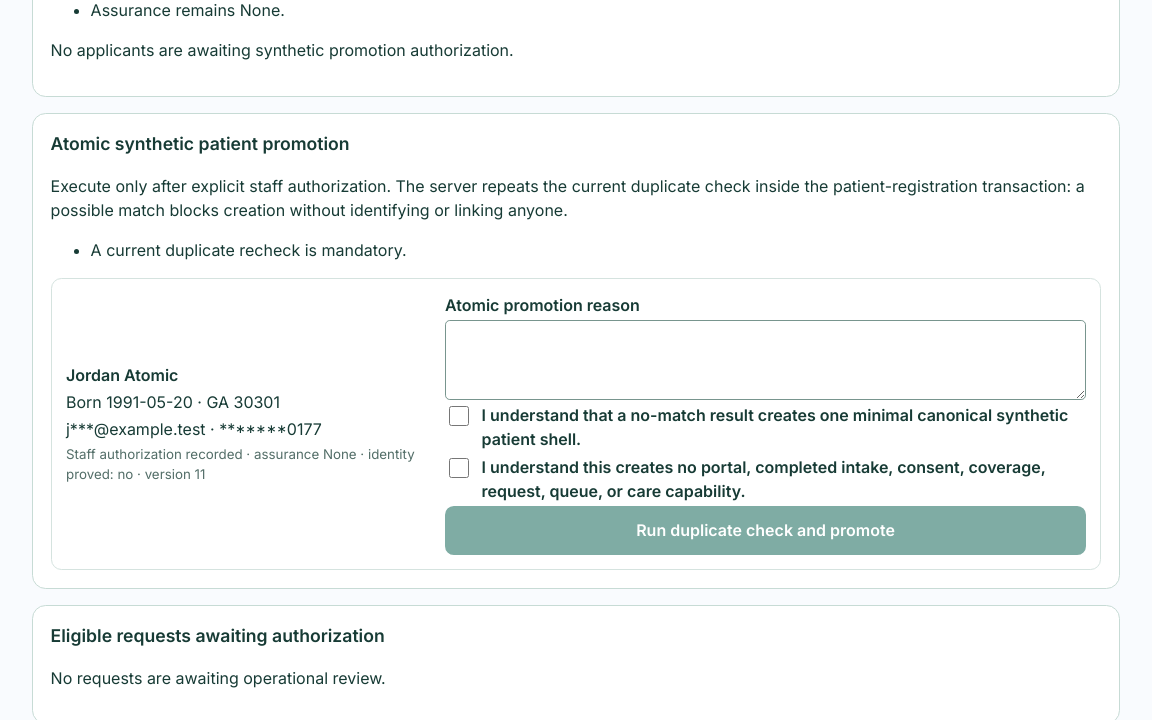
Test: AdminTelehealthQueue › executes only the acknowledged atomic synthetic patient-shell command
(page scrolled)
Check: the text "Jordan Atomic" is shown, box x1=66 y1=365 x2=178 y2=385
Check: the button "Run duplicate check and promote" is disabled, box x1=445 y1=506 x2=1086 y2=555
Type "Authorized synthetic patient shell transaction reviewed." into the text box labelled "Atomic promotion reason" at [766, 360], box x1=445 y1=320 x2=1086 y2=400
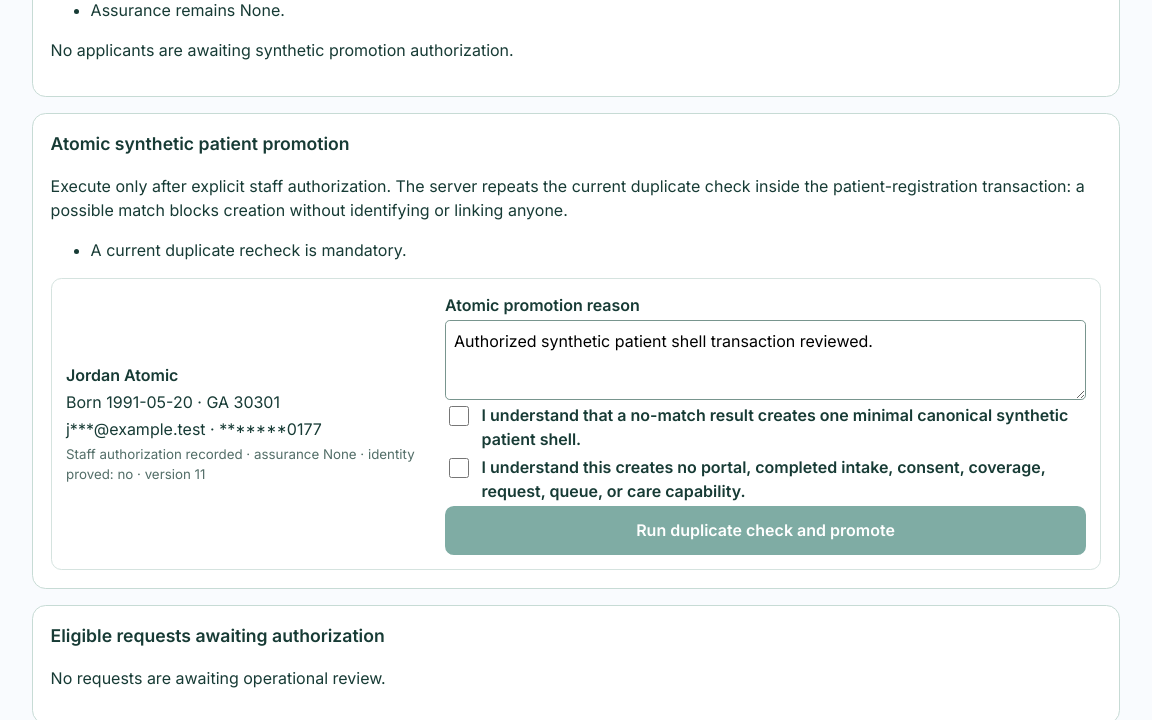
Click the checkbox named "a no-match result creates one minimal canonical synthetic patient shell" at [459, 416], box x1=449 y1=406 x2=469 y2=426
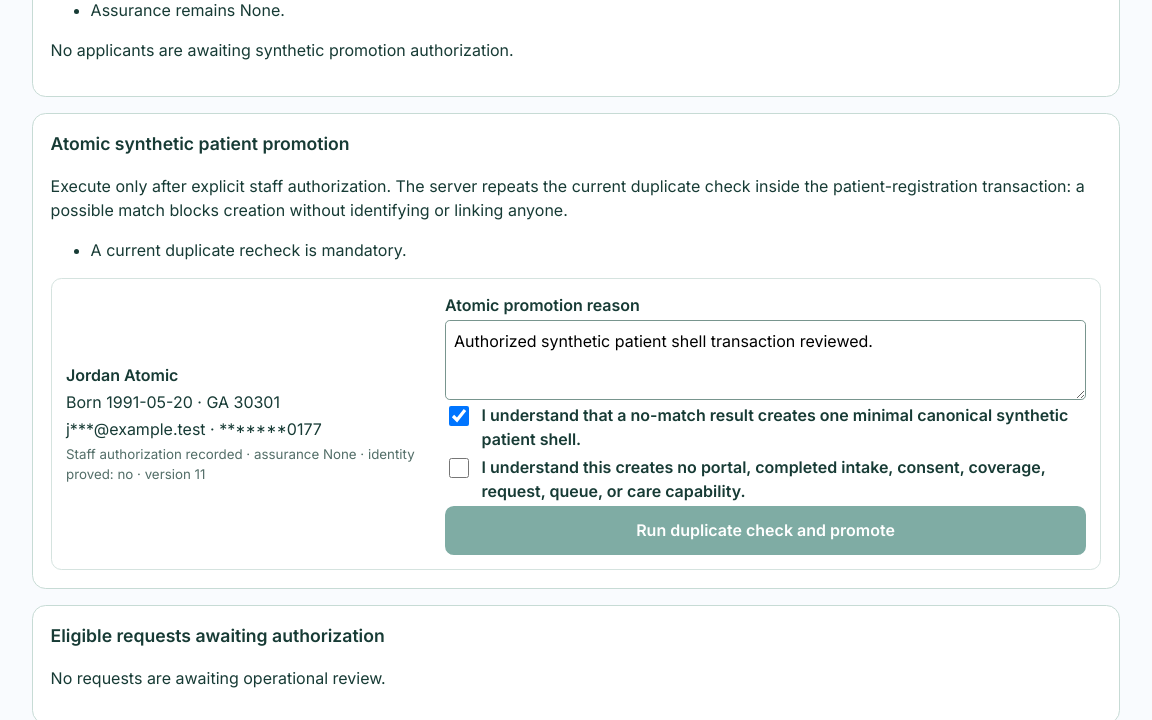
Click the checkbox labelled "creates no portal, completed intake, consent, coverage" at [459, 468], box x1=449 y1=458 x2=469 y2=478
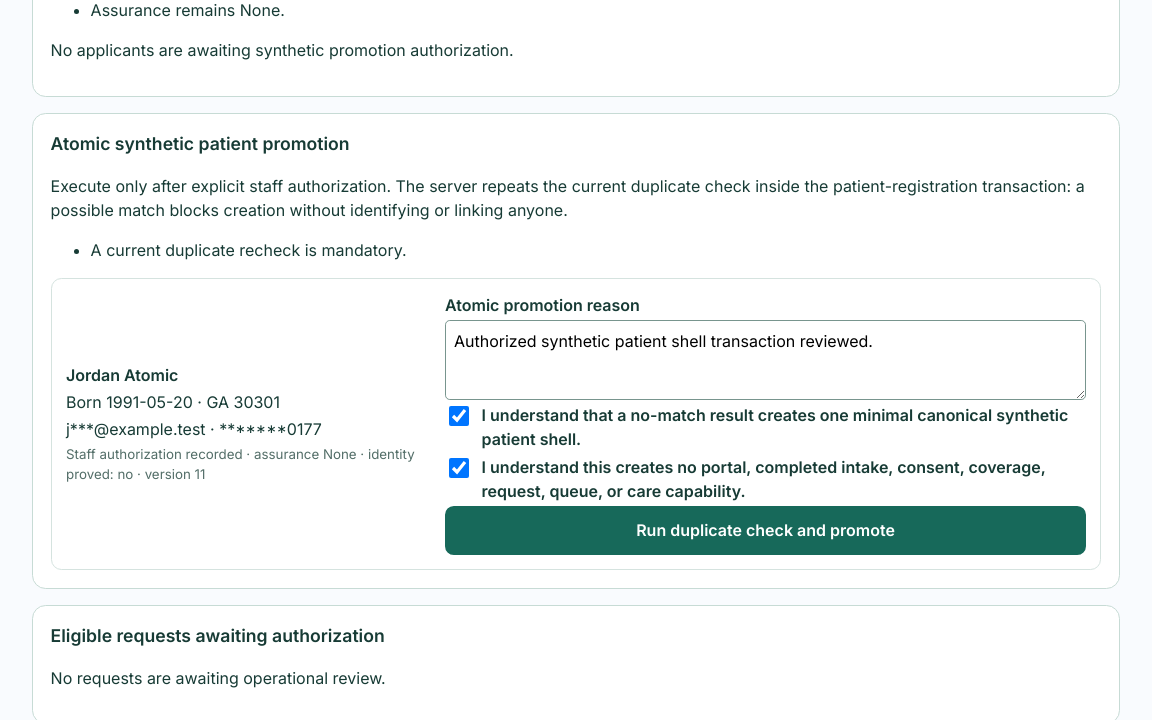
Click the button "Run duplicate check and promote" at [766, 530], box x1=445 y1=506 x2=1086 y2=555
(page scrolled)
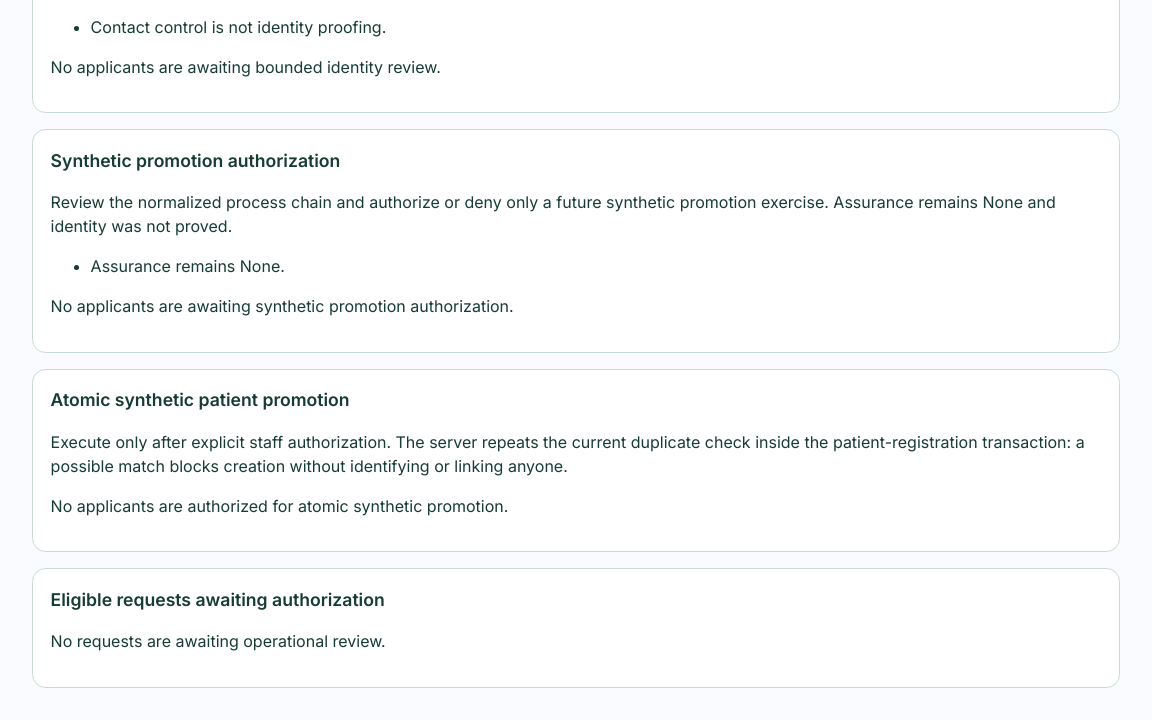
Check: the text "No applicants are authorized for atomic synthetic promotion." is shown, box x1=51 y1=496 x2=508 y2=516
